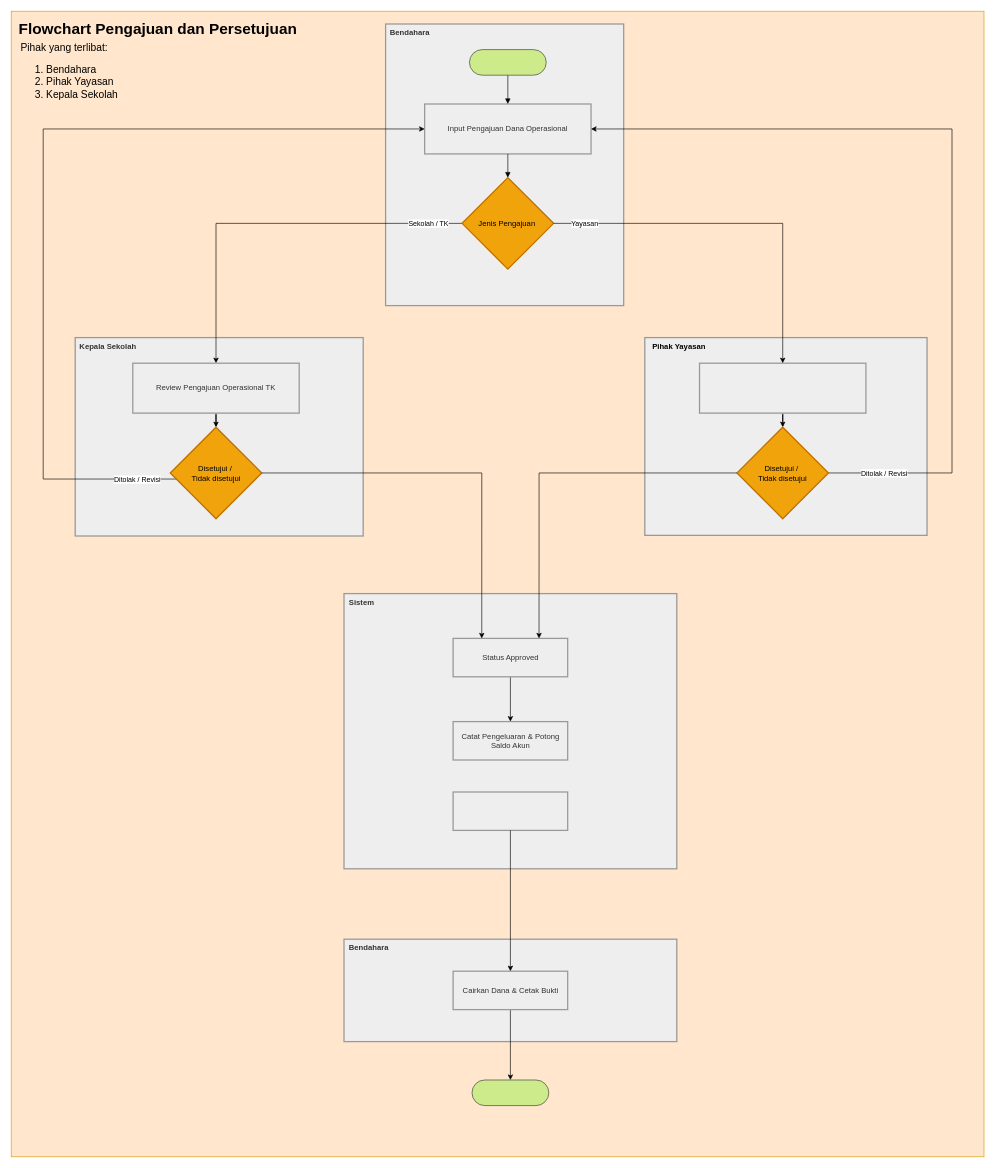
The diagram is 995 pixels wide and 1168 high, and some of its shapes have lost their labels. The centre of each missing label's shape, as x and y in pixels:
End: [510,1092]
Review Pengajuan Operasional Yayasan: [782,387]
Start: [507,62]
Terbitkan Bukti Pencairan / Voucher: [510,811]
